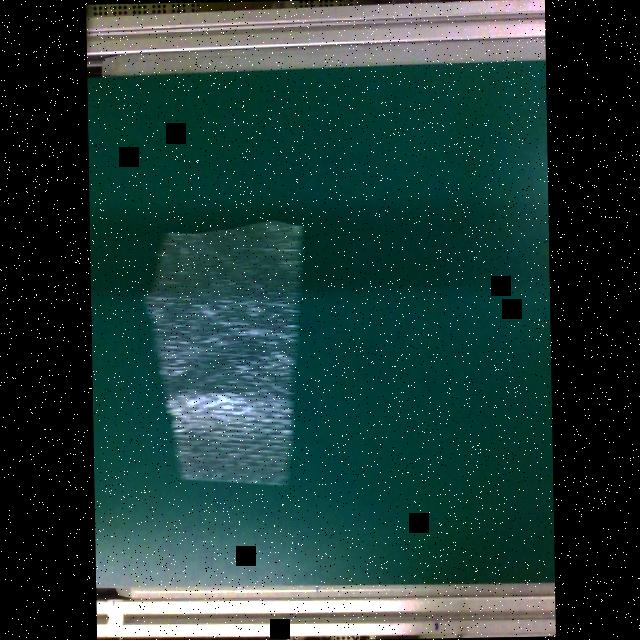scrap_plastic: (142, 220, 310, 496)
